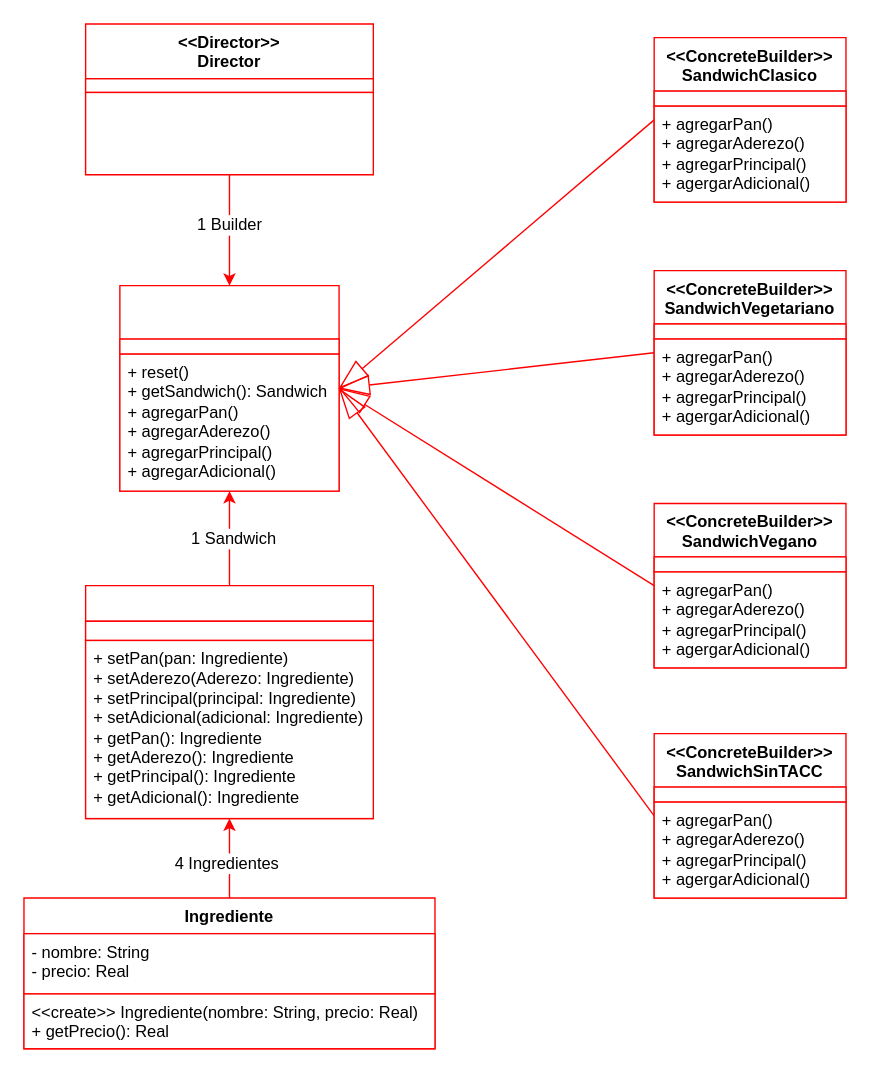
Image size: 870x1077. Some labels were removed from this diagram. The shapes that lost their labels are listed below. From the top down, each one's box as (x1, y1, x2, y2) in pixels, then its label:
(84, 91, 373, 175): <<create>> Director(builder: Builder) + build() + setBuilder(builder: Builder)
(119, 284, 339, 491): <<Builder>> Builder
(84, 584, 373, 819): Sandwich
